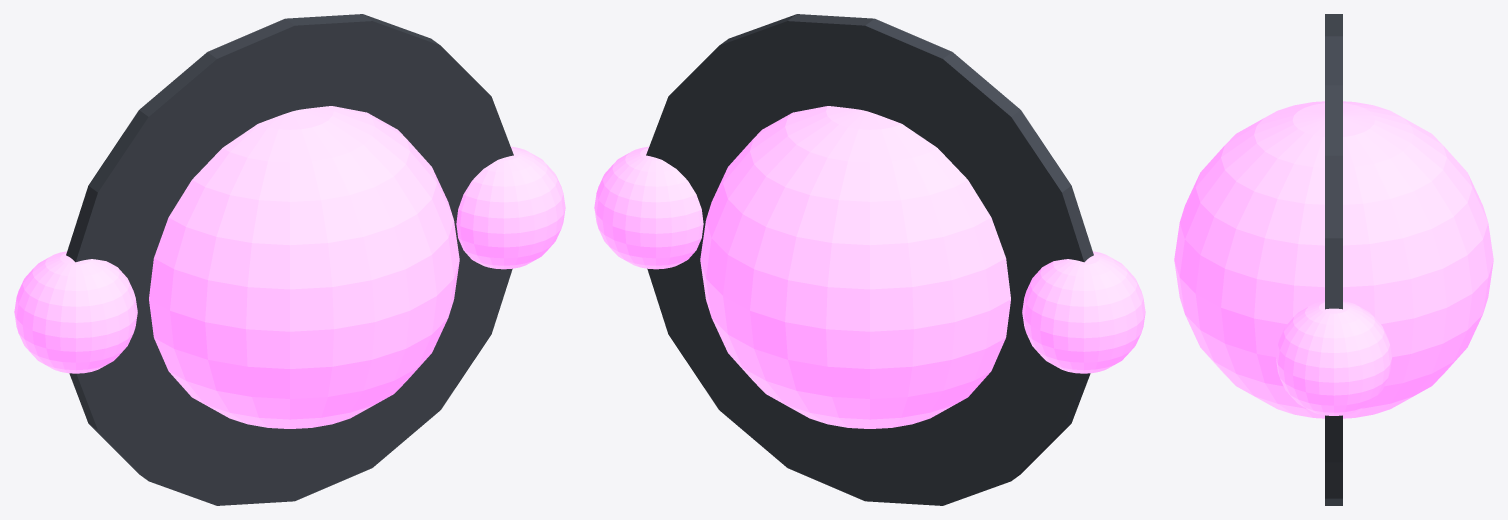
File: drone_swarm_core.glb
The picture shows the model from 3 angles, left to right: view 1: azimuth 30°, elevation 25°; view 2: azimuth 150°, elevation 25°; view 3: azimuth 270°, elevation 25°; orthographic projection. The views are drawn at different scales.
Visible parts, largest first — view 1: ring, core, pod, pod.001; view 2: ring, core, pod, pod.001; view 3: core, pod.001, ring.
Boxes of the visible parts, <box> form: ring: <box>66,14,513,505</box>; core: <box>149,106,459,428</box>; pod: <box>14,251,137,373</box>; pod.001: <box>456,146,565,269</box>; ring: <box>646,14,1093,505</box>; core: <box>700,106,1010,428</box>; pod: <box>1022,251,1145,373</box>; pod.001: <box>594,146,703,269</box>; core: <box>1174,101,1493,418</box>; pod.001: <box>1276,301,1391,415</box>; ring: <box>1325,14,1342,505</box>.
Size of the model in its own units: 0.8 by 0.68 by 0.44.
